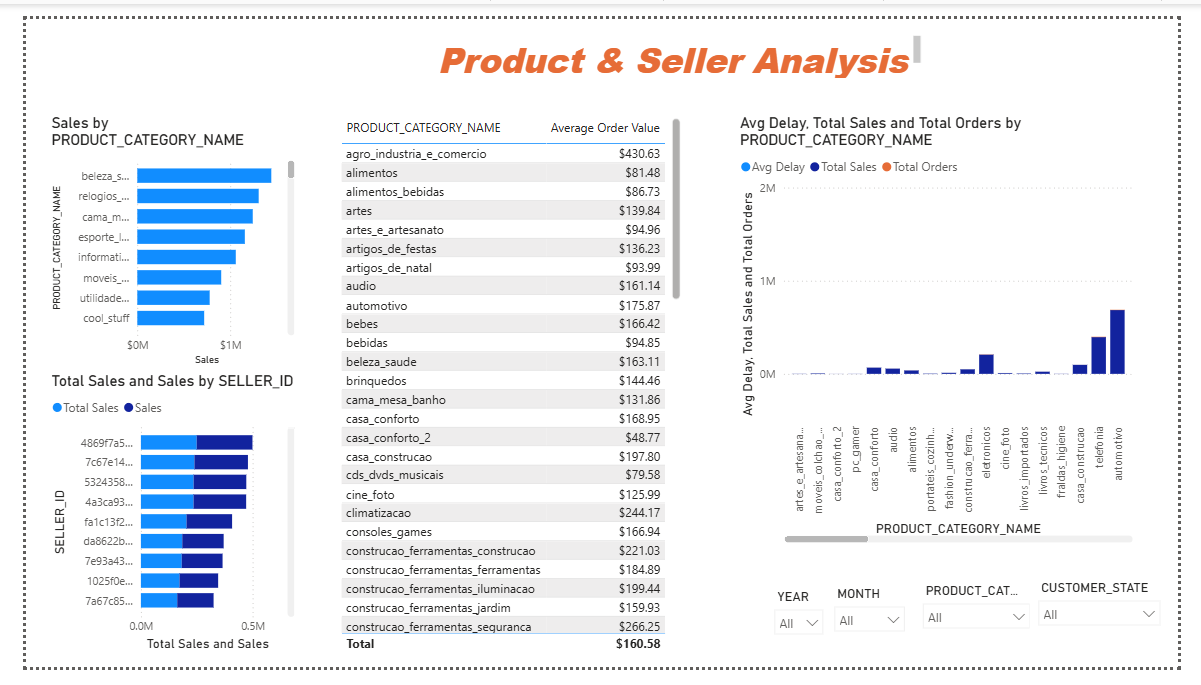

The page's visual inventory and layout, read from the dashboard file:
{"tool":"powerbi","page":{"name":"Page 2","canvas":[1280,720],"ordinal":1},"visuals":[{"type":"barChart","fields":{"Category":["DIM_PRODUCT.PRODUCT_CATEGORY_NAME"],"Y":["MEASURES (2).Sales"]},"box":[23.3,105,296.7,576.7],"z":0},{"type":"barChart","fields":{"Category":["DIM_SELLER.SELLER_ID"],"Y":["MEASURES (2).Total Sales","MEASURES (2).Sales"]},"box":[803.3,105,406.7,483.3],"z":1000},{"type":"tableEx","fields":{"Values":["DIM_PRODUCT.PRODUCT_CATEGORY_NAME","DIM_CUSTOMER.Average Order Value"]},"box":[340,105,388.3,601.7],"z":2000},{"type":"columnChart","fields":{"Y":["MEASURES (2).Avg Delay","MEASURES (2).Total Sales","MEASURES (2).Total Orders"],"Category":["DIM_PRODUCT.PRODUCT_CATEGORY_NAME"]},"box":[1191.7,120,18.3,13.3],"z":3000},{"type":"textbox","box":[433.7,13.7,565.4,56.3],"z":4000},{"type":"slicer","fields":{"Values":["DIM_PRODUCT.PRODUCT_CATEGORY_NAME"]},"box":[986.9,622.1,138.9,75.8],"z":5000},{"type":"slicer","fields":{"Values":["DIM_CUSTOMER.CUSTOMER_STATE"]},"box":[1114.3,618.9,155.1,63.1],"z":6000},{"type":"slicer","fields":{"Values":["DIM_DATE.YEAR"]},"box":[821.1,628.4,74.2,63.2],"z":7000},{"type":"slicer","fields":{"Values":["DIM_DATE.MONTH"]},"box":[889,625.3,97.9,56.8],"z":8000}]}

Visuals, with their boxes in screenshot pixels (x1, y1, x2, y2), scaled from the page's 1280x720 canvas onto the 1201x685 screenshot:
barChart - DIM_PRODUCT.PRODUCT_CATEGORY_NAME x MEASURES (2).Sales: BBox(22, 100, 300, 649)
barChart - DIM_SELLER.SELLER_ID x MEASURES (2).Total Sales: BBox(754, 100, 1135, 560)
tableEx - DIM_PRODUCT.PRODUCT_CATEGORY_NAME x DIM_CUSTOMER.Average Order Value: BBox(319, 100, 683, 672)
columnChart - MEASURES (2).Avg Delay x MEASURES (2).Total Sales: BBox(1118, 114, 1135, 127)
textbox: BBox(407, 13, 937, 67)
slicer - DIM_PRODUCT.PRODUCT_CATEGORY_NAME: BBox(926, 592, 1056, 664)
slicer - DIM_CUSTOMER.CUSTOMER_STATE: BBox(1046, 589, 1191, 649)
slicer - DIM_DATE.YEAR: BBox(770, 598, 840, 658)
slicer - DIM_DATE.MONTH: BBox(834, 595, 926, 649)
